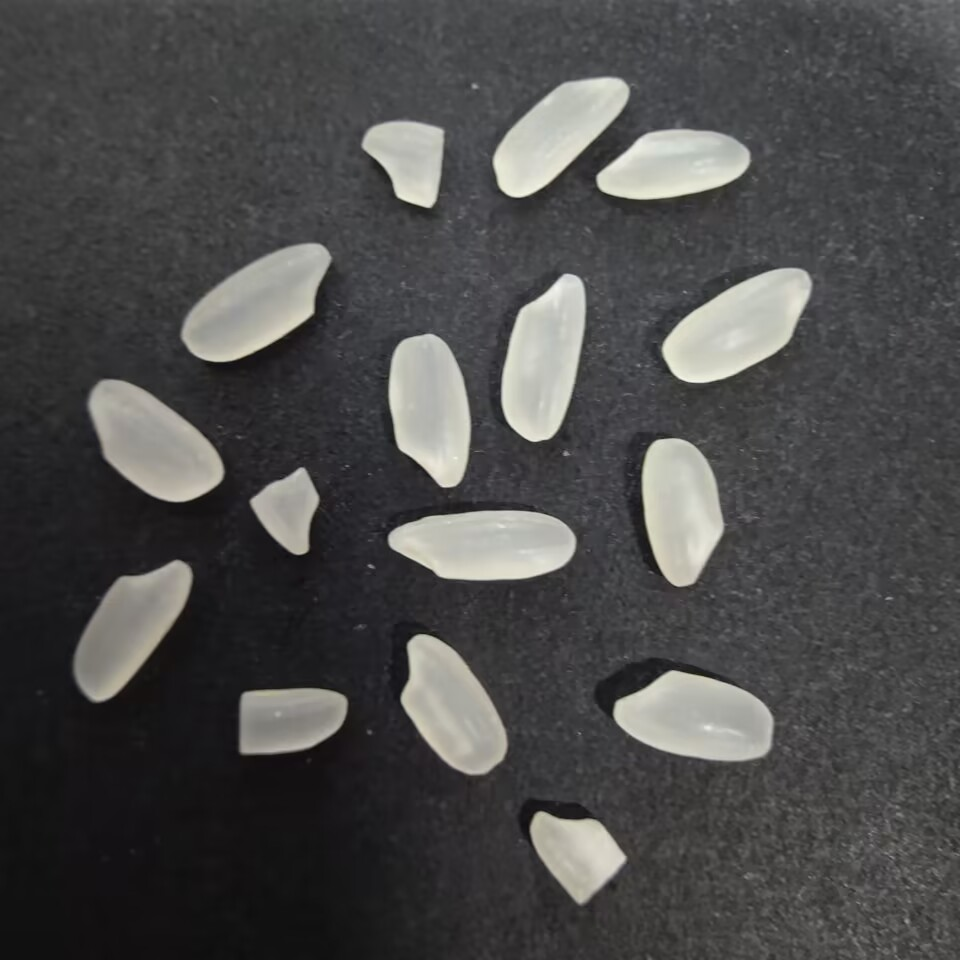broken: (528, 804, 631, 912), (231, 682, 350, 763), (356, 115, 452, 213), (242, 460, 325, 558)
rice: (178, 238, 335, 367), (657, 262, 815, 386), (80, 378, 228, 506), (69, 555, 193, 706), (491, 71, 635, 201), (395, 628, 514, 782), (607, 663, 779, 763), (497, 268, 592, 446), (383, 503, 580, 583), (637, 432, 728, 594), (386, 329, 475, 494), (595, 127, 757, 207)
